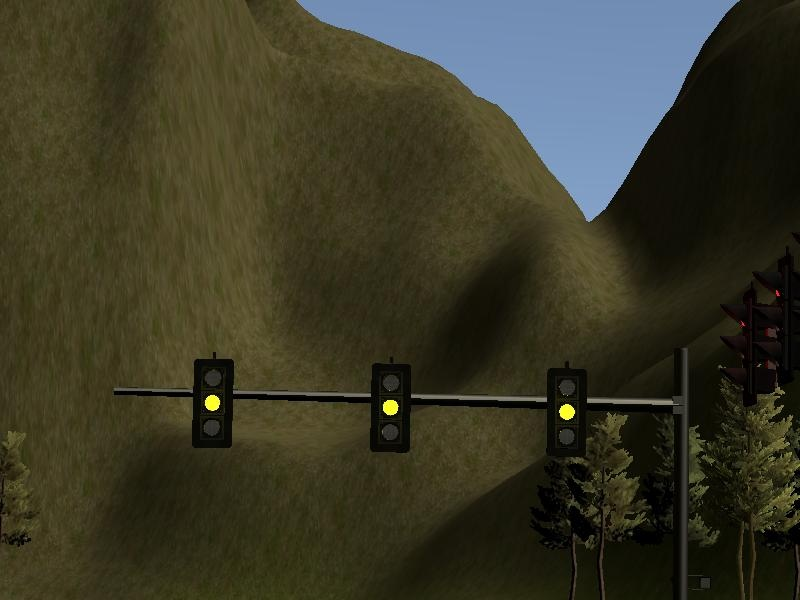yellow: (188, 352, 239, 455), (540, 360, 591, 461), (365, 357, 415, 456)
